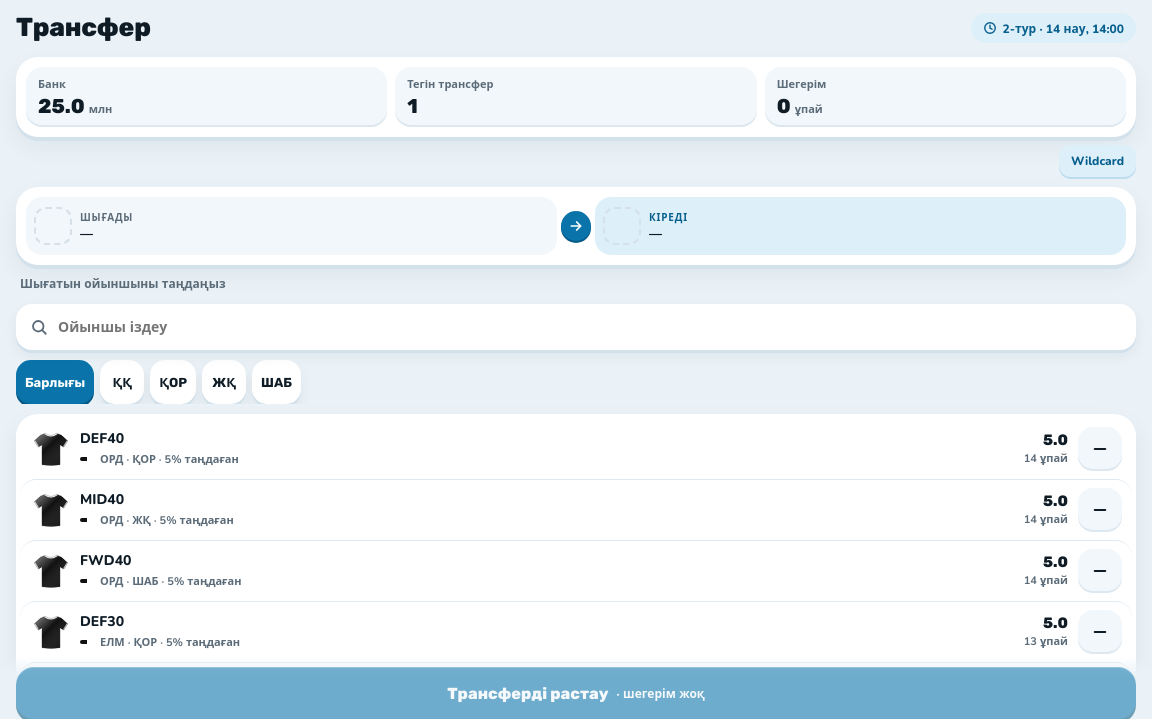
Transfer › клуб, из которого уже трое, заблокирован с подписью 3/3
Click the button named "Шығару: DEF40" at point(1100, 449), box [1078,427,1122,471]
(page scrolled)
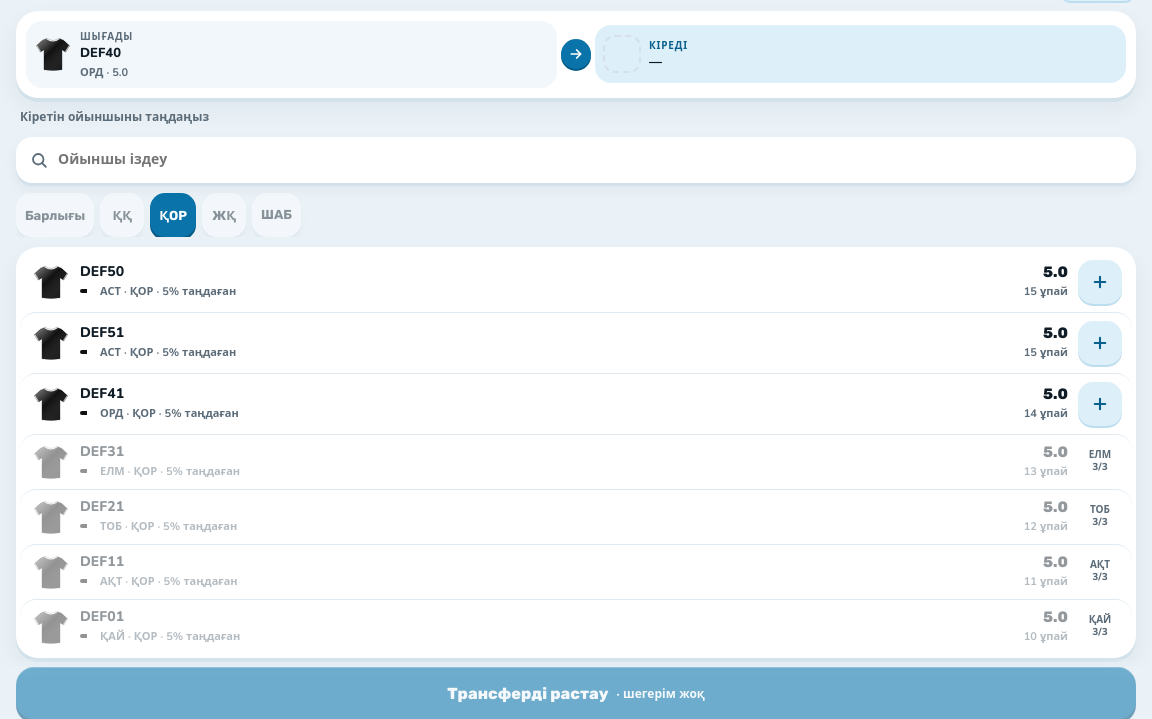
Result: the text "3/3" next to "10 ұпай" is shown at [1092,625,1108,639]
Result: the button named "Қосу: DEF50" is shown at [1078,260,1122,304]
